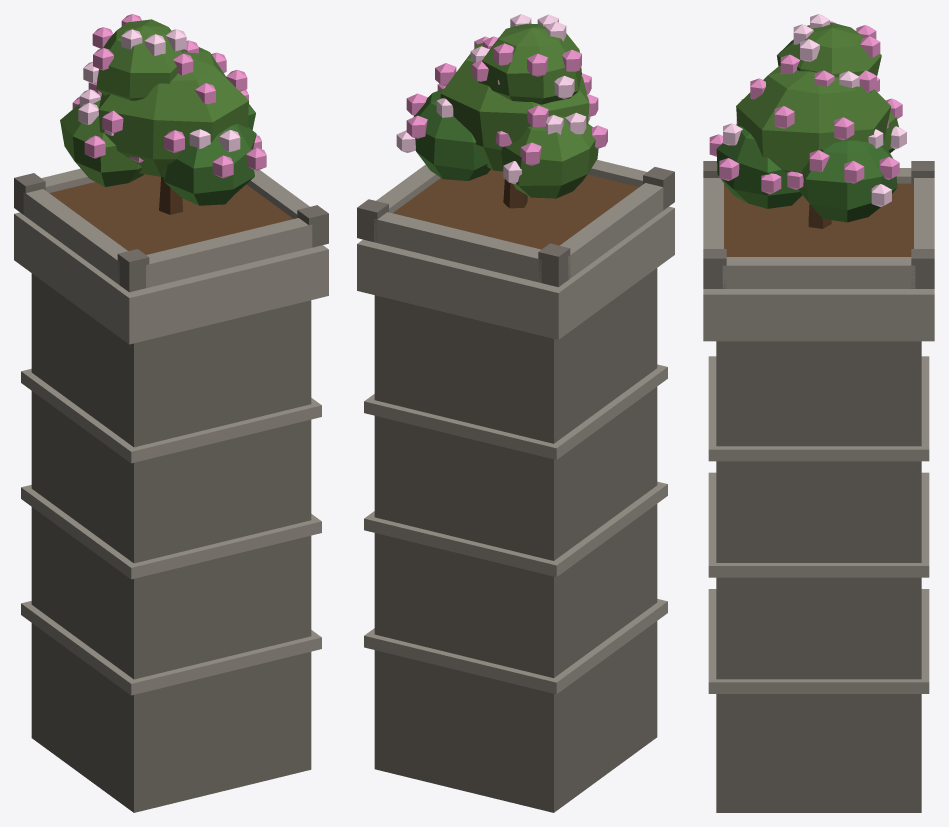
File: decor_flowering_shrub.glb
The picture shows the model from 3 angles, left to right: view 1: azimuth 30°, elevation 25°; view 2: azimuth 150°, elevation 25°; view 3: azimuth 270°, elevation 25°; orthographic projection.
Parts seen in each view (by area): view 1: decor_flowering_shrub; view 2: decor_flowering_shrub; view 3: decor_flowering_shrub.
Part boxes in pixels (left/top/right/bottom): decor_flowering_shrub: left=14, top=14, right=328, bottom=812; decor_flowering_shrub: left=357, top=14, right=674, bottom=812; decor_flowering_shrub: left=703, top=14, right=934, bottom=812.
Bounding box in the file's own units: 1.8 × 6.33 × 1.8.
